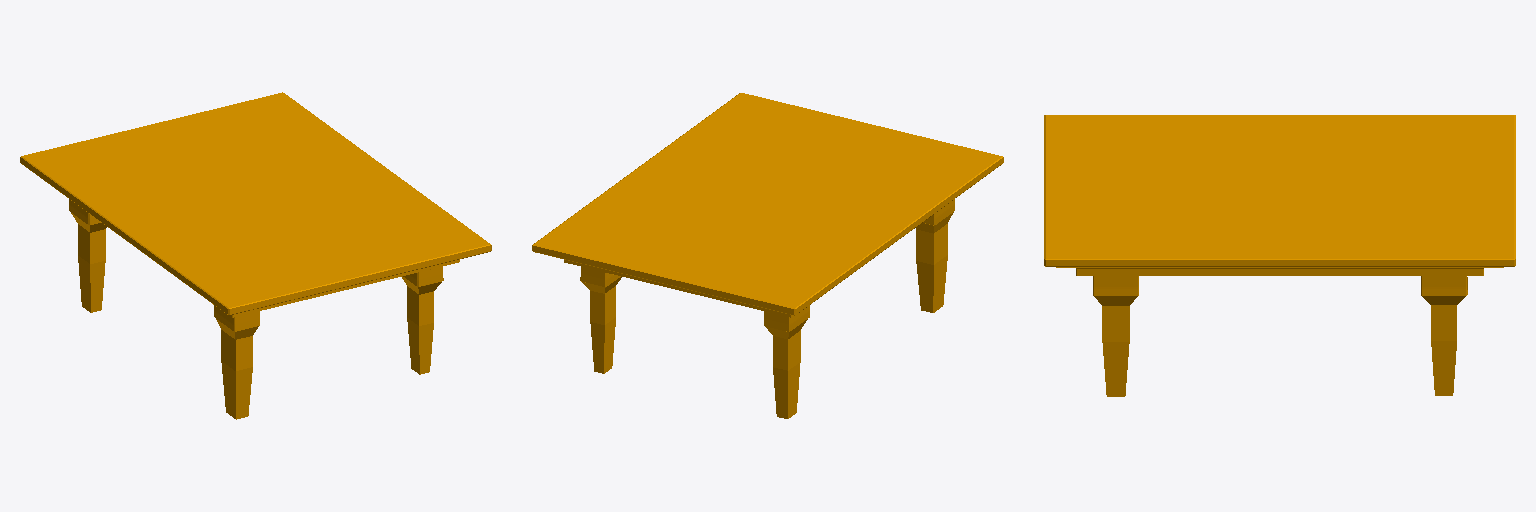
robot.urdf — table:
<?xml version="1.0"?>
<robot name="table">
  <link name="table">
    <visual>
      <origin xyz="0.0 0.0 0.0"/>
      <geometry>
        <mesh filename="meshes/table_lightmap.obj" scale="0.1 0.1 0.1"/>
      </geometry>
    </visual>
    <collision>
      <origin xyz="0.0 0.0 0.0"/>
      <geometry>
        <mesh filename="meshes/table_lightmap.obj" scale="0.1 0.1 0.1"/>
      </geometry>
    </collision>
    <inertial>
      <mass value="10.068"/>
      <inertia ixx="1.0001" ixy="0.0" ixz="0.0" iyy="1.0001" iyz="0.0" izz="1.0001"/>
    </inertial>
  </link>
</robot>

--- What the picture shows (computed from the rendered views, not written in the file) ---
Views: 3 orthographic renders of the robot side by side, from view 1: azimuth 30°, elevation 25°; view 2: azimuth 150°, elevation 25°; view 3: azimuth 270°, elevation 25°.
Model table with 1 links and 0 joints (none), rooted at table, posed every joint at zero.
Links seen in each view (by area): view 1: table; view 2: table; view 3: table.
Boxes of the visible links, left/top/right/bottom form: table: left=20, top=92, right=491, bottom=419; table: left=532, top=93, right=1003, bottom=418; table: left=1044, top=115, right=1515, bottom=396.
Bounding box of the posed robot: 0.7612 × 1.04 × 0.3853 m (x, y, z).
Meshes: 1 distinct files referenced, 1 mesh visuals loaded (1 OBJ).
